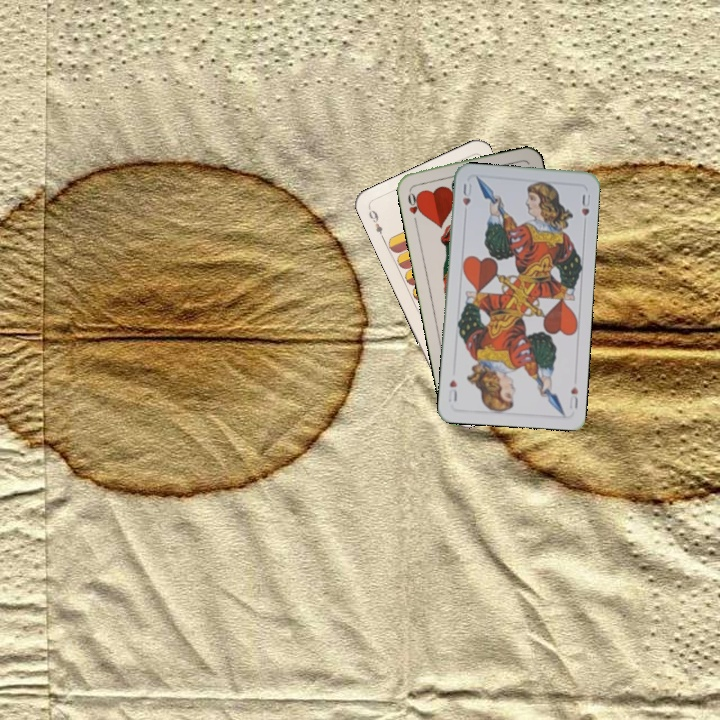E9: (364, 204, 387, 242)
HO: (404, 185, 425, 226)
HU: (459, 179, 474, 208), (566, 382, 581, 411)
